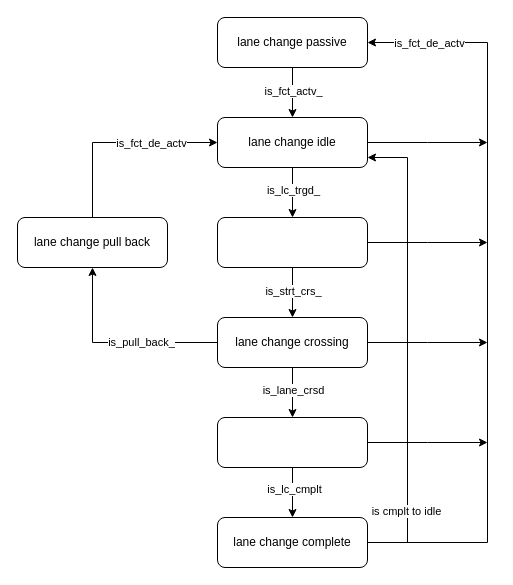
Some shapes in this 513 by 585 pixel diagram are drawn without their labels. Each missing label, with the box of its shape:
lane change centering: (216, 416, 368, 468)
lane change wait: (216, 216, 368, 268)
